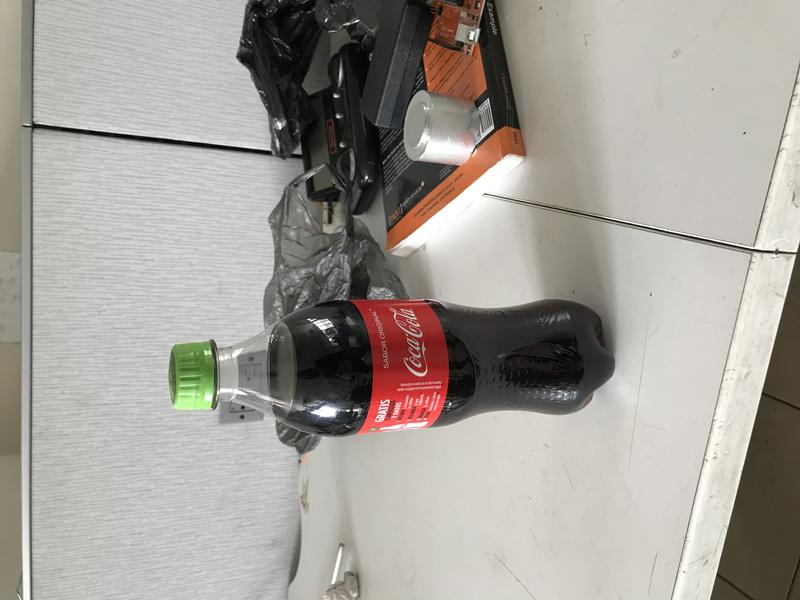coca_cola: (166, 299, 615, 437)
